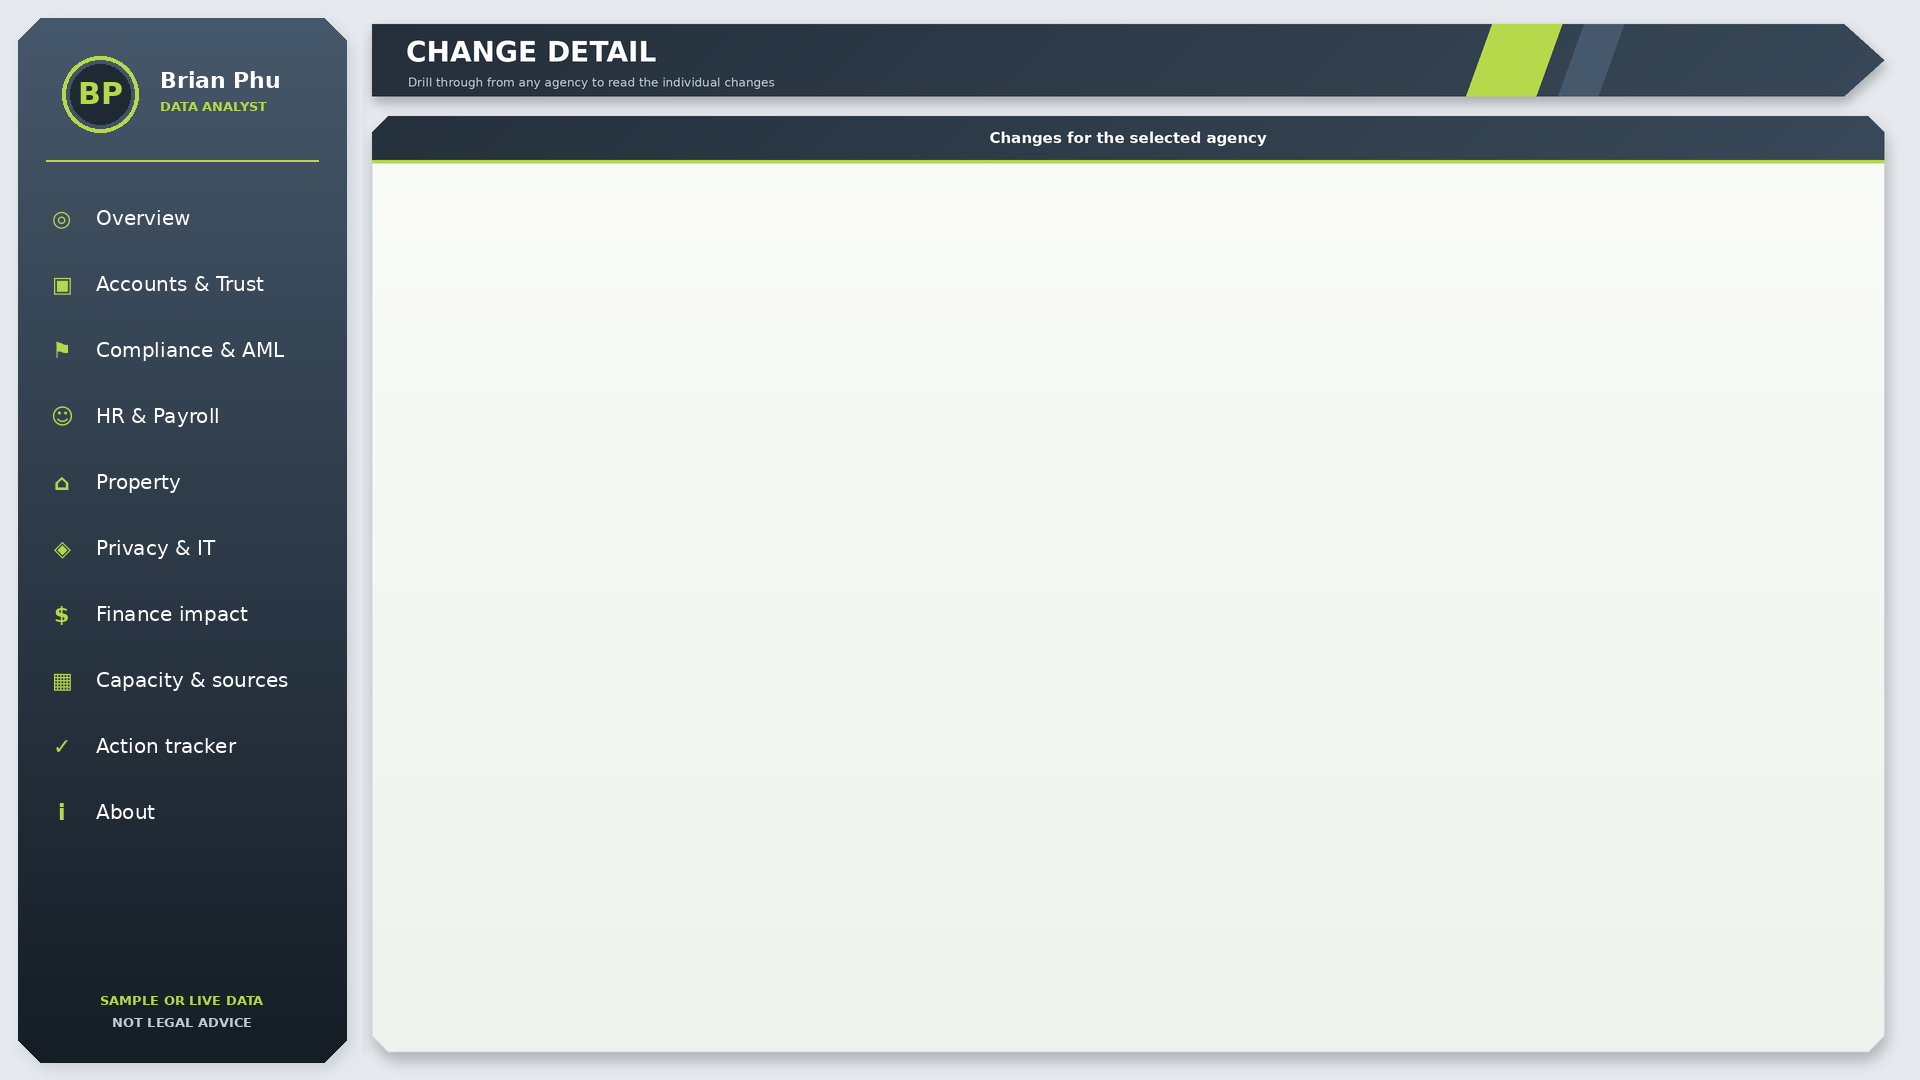

This screenshot's page, from the dashboard's own definition file:
{"tool":"powerbi","page":{"name":"Change detail","canvas":[1920,1080],"ordinal":8},"visuals":[{"type":"tableEx","fields":{"Values":["changes.published","changes.title","changes.source","changes.impact","changes.status","changes.deadline","changes.link"]},"box":[384,168,1488,872],"z":2380},{"type":"actionButton","box":[30,905,150,44],"z":2470},{"type":"actionButton","box":[30,190,300,56],"z":9000},{"type":"actionButton","box":[30,256,300,56],"z":9001},{"type":"actionButton","box":[30,322,300,56],"z":9002},{"type":"actionButton","box":[30,388,300,56],"z":9003},{"type":"actionButton","box":[30,454,300,56],"z":9004},{"type":"actionButton","box":[30,520,300,56],"z":9005},{"type":"actionButton","box":[30,586,300,56],"z":9006},{"type":"actionButton","box":[30,652,300,56],"z":9007}]}

Visuals, with their boxes in screenshot pixels (x1, y1, x2, y2), scaled from the page's 1920x1080 canvas onto the 1920x1080 screenshot:
tableEx - changes.published x changes.title: (x1=384, y1=168, x2=1872, y2=1040)
actionButton: (x1=30, y1=905, x2=180, y2=949)
actionButton: (x1=30, y1=190, x2=330, y2=246)
actionButton: (x1=30, y1=256, x2=330, y2=312)
actionButton: (x1=30, y1=322, x2=330, y2=378)
actionButton: (x1=30, y1=388, x2=330, y2=444)
actionButton: (x1=30, y1=454, x2=330, y2=510)
actionButton: (x1=30, y1=520, x2=330, y2=576)
actionButton: (x1=30, y1=586, x2=330, y2=642)
actionButton: (x1=30, y1=652, x2=330, y2=708)
